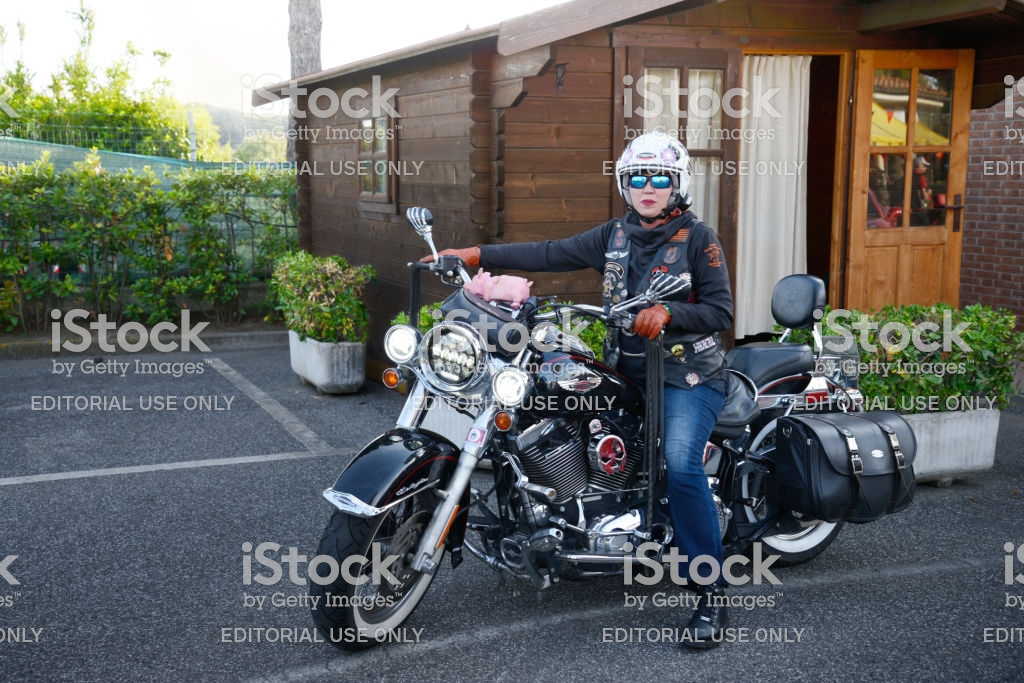helmet: (605, 124, 701, 192)
